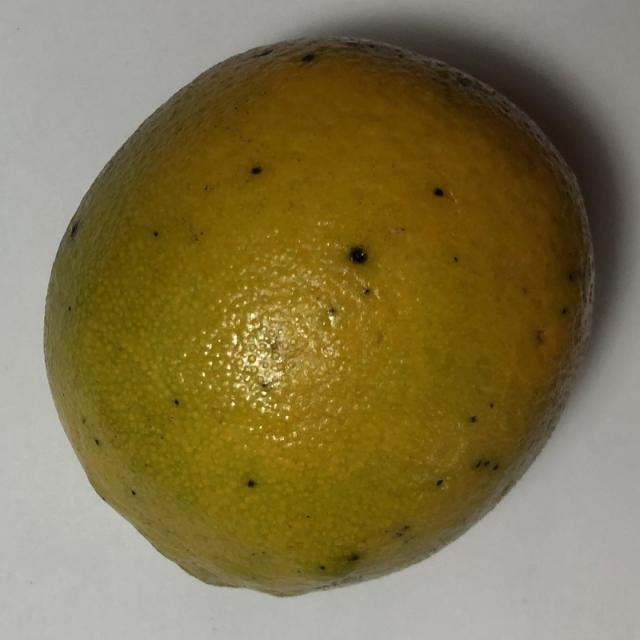blackspot: (30, 18, 609, 616)
